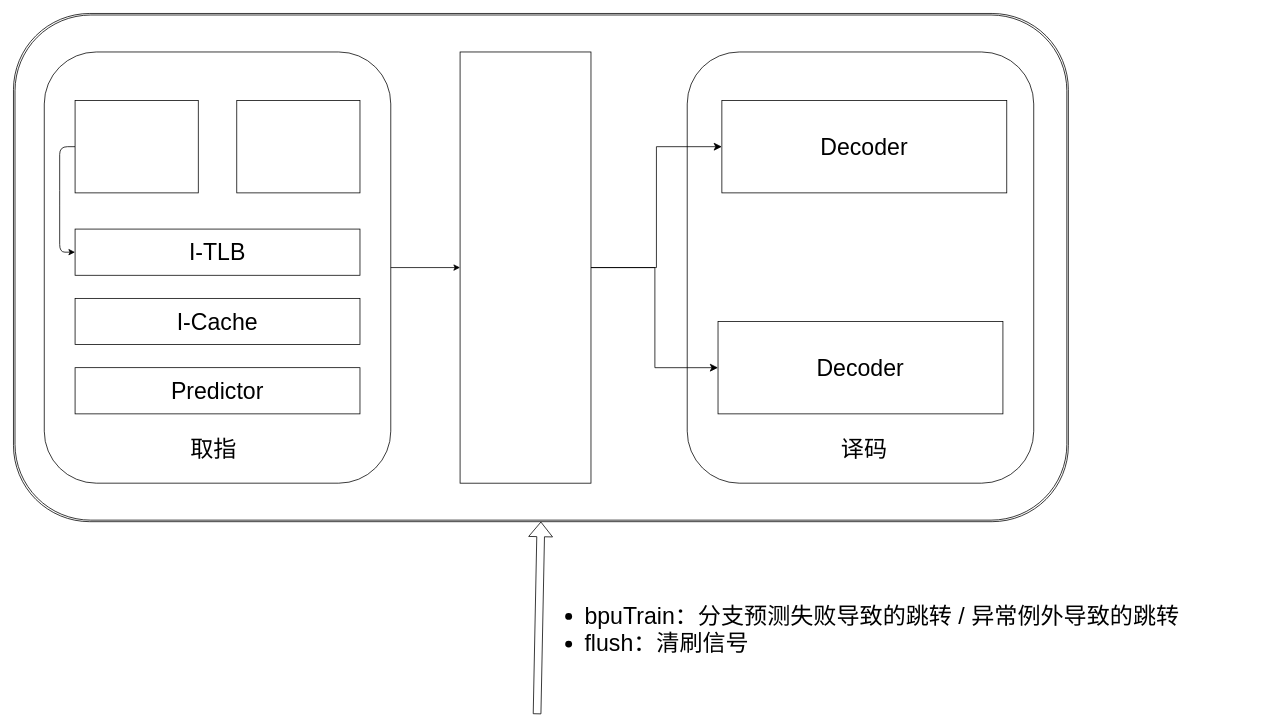
Image size: 1267x728. Some labels were removed from this diagram. The centre of each missing label's shape, as x and y in pixels:
"Fetch" belongs at (x=298, y=146).
"InstBuffer" belongs at (x=525, y=267).
"PreFetch" belongs at (x=136, y=146).
